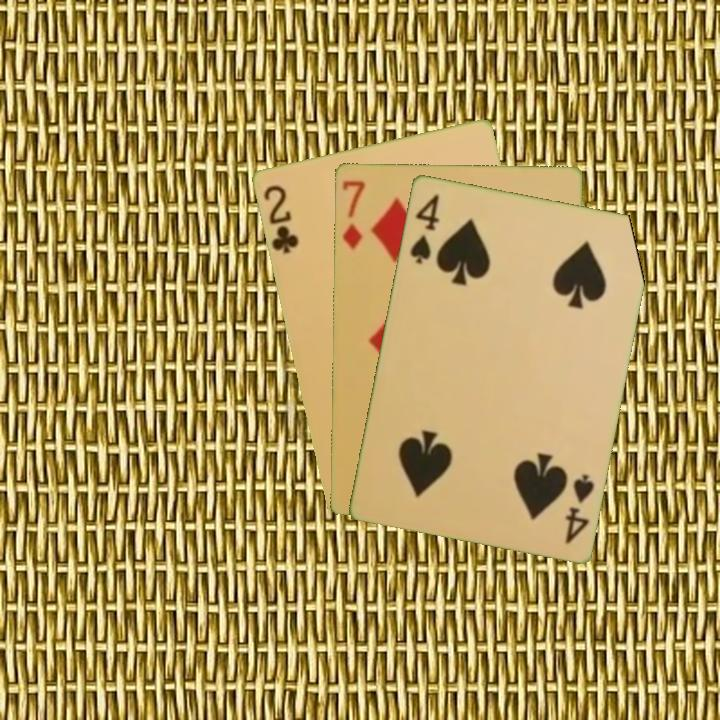2c: (259, 181, 301, 257)
4s: (406, 190, 442, 267), (561, 470, 597, 547)
7d: (338, 177, 367, 252)
